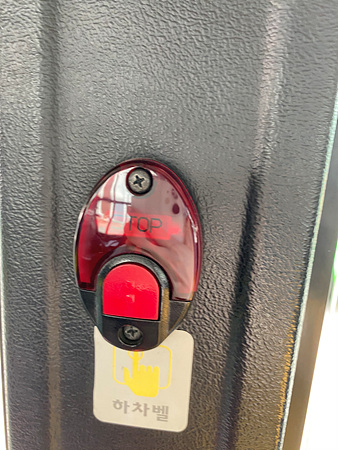bell: (75, 159, 201, 350)
